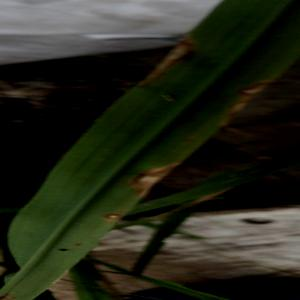1 RiceBlast: (141, 29, 204, 97), (118, 157, 188, 205), (216, 70, 279, 123), (94, 203, 139, 238)
